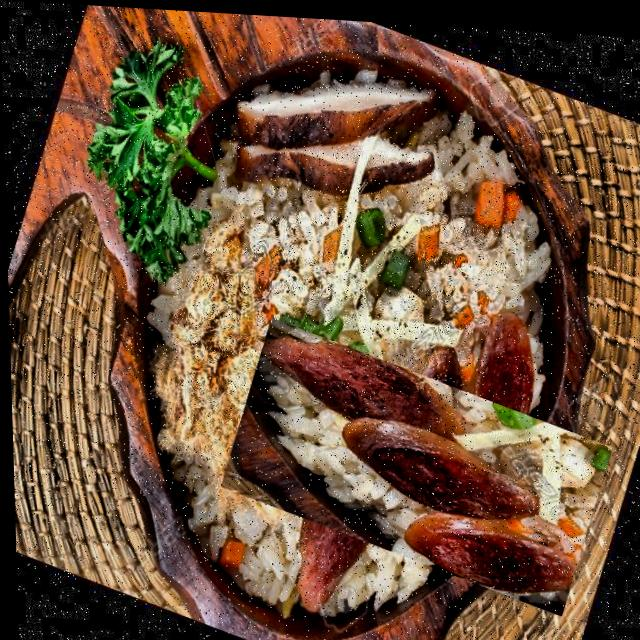Food: (241, 285, 587, 639)
